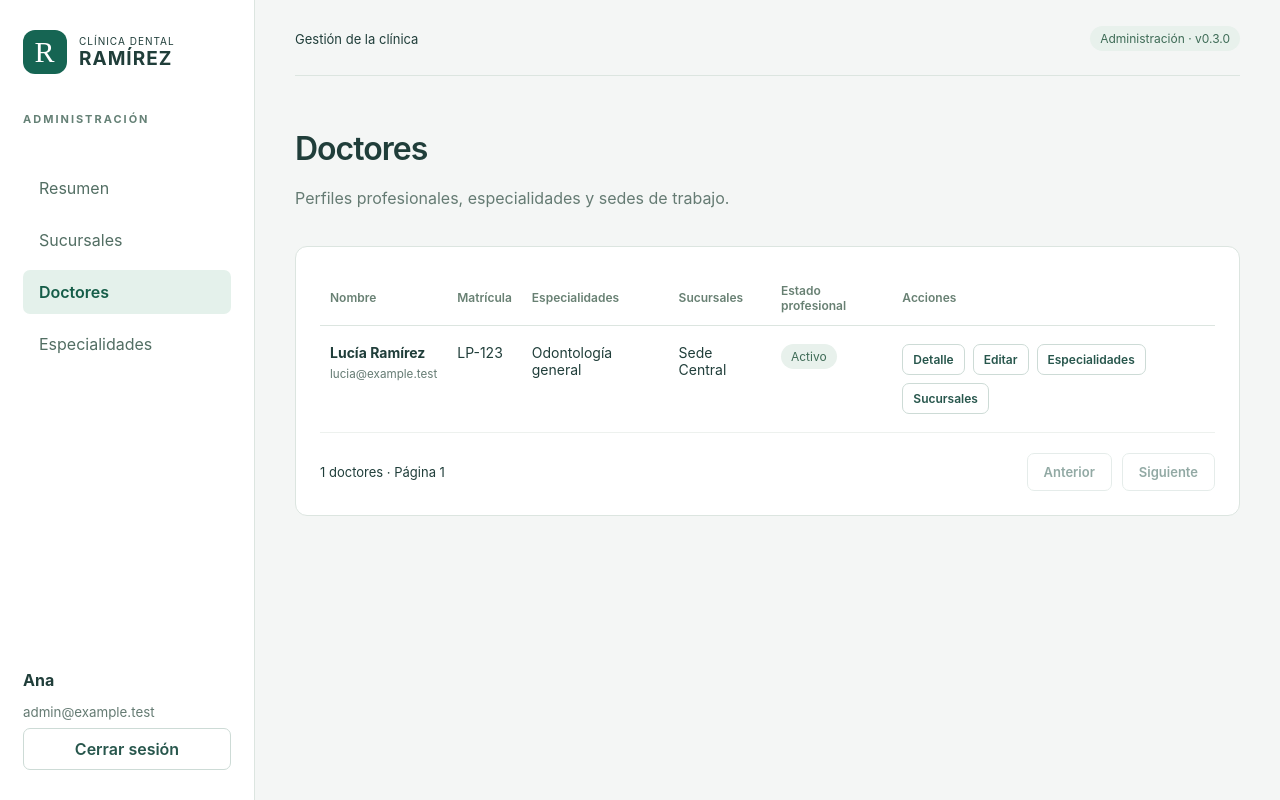
asigna múltiples especialidades conservando la selección existente
Click the button "Especialidades" at [1091, 360], box [1036, 344, 1146, 375]
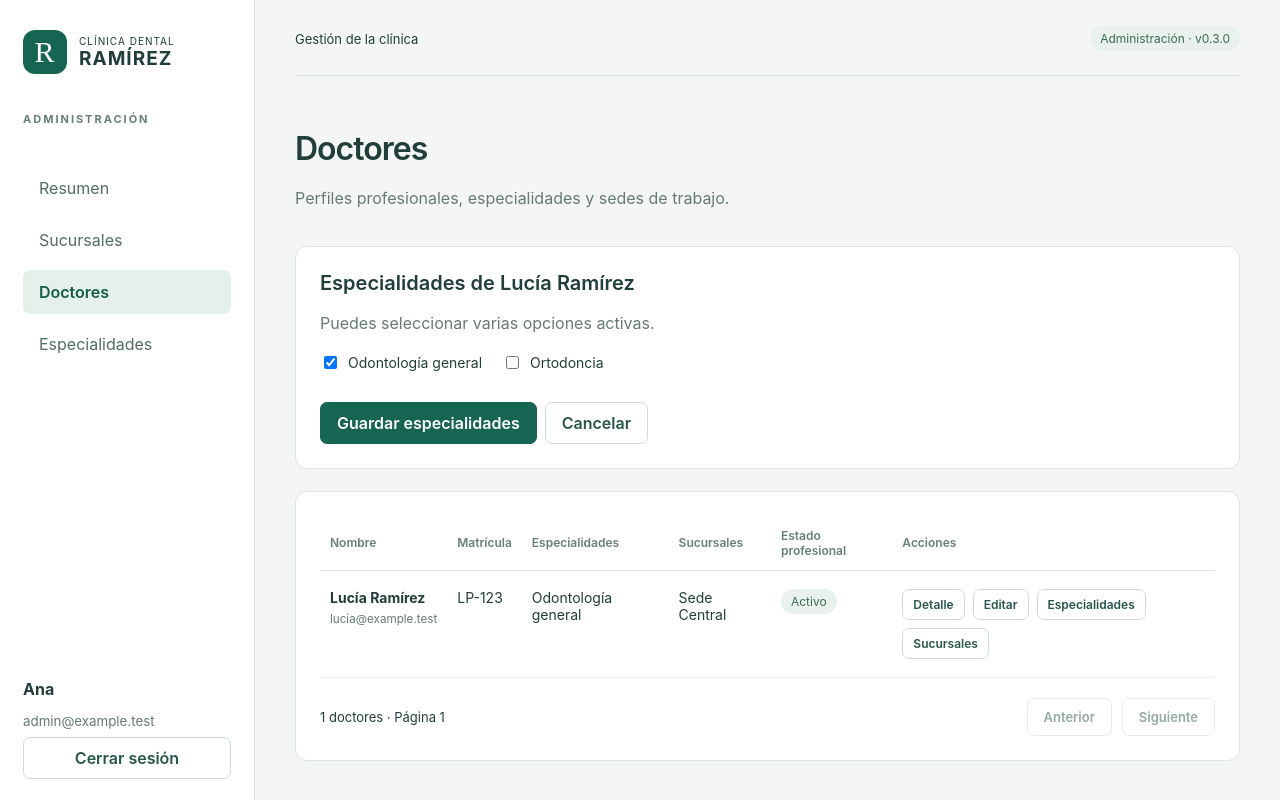
Expected: the checkbox labelled "Odontología general" is checked, [324, 356, 337, 369]
Click the checkbox labelled "Ortodoncia" at [512, 362], box [506, 356, 519, 369]
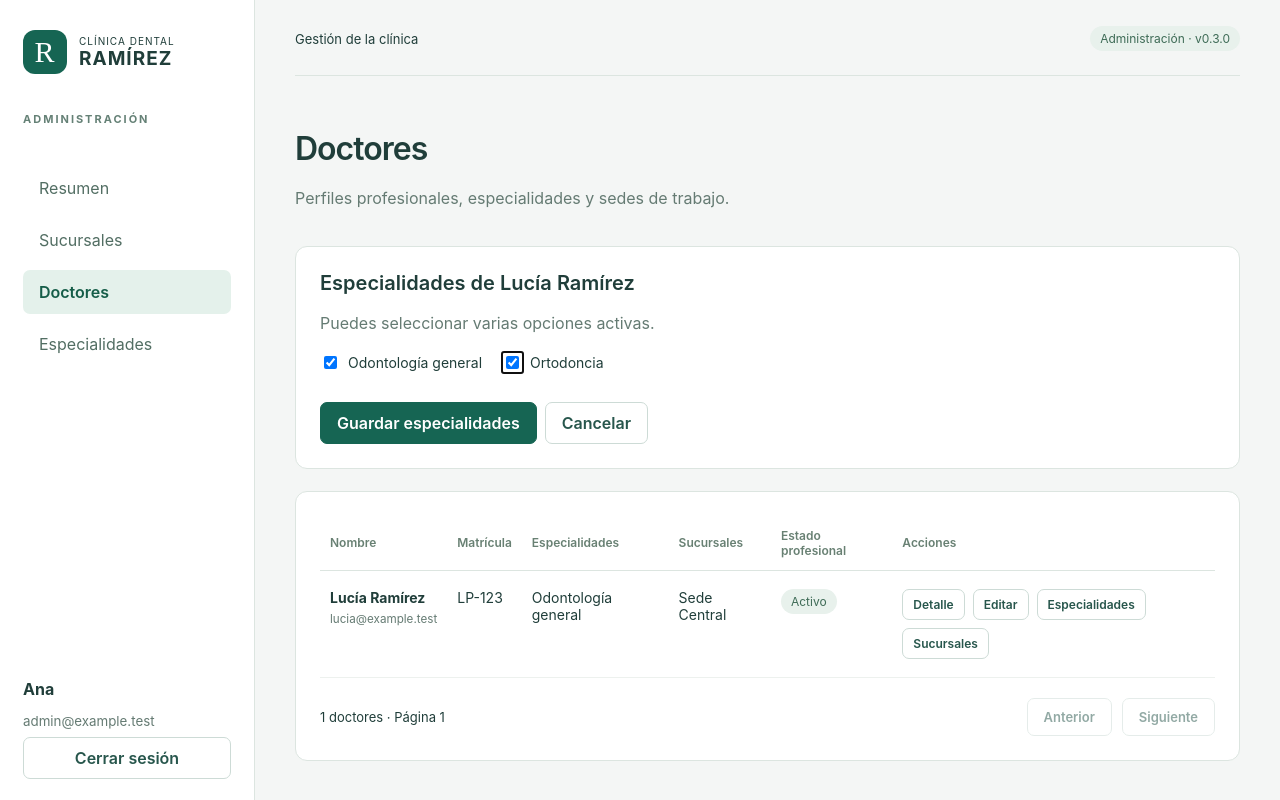
Click the checkbox labelled "Ortodoncia" at [512, 362], box [506, 356, 519, 369]
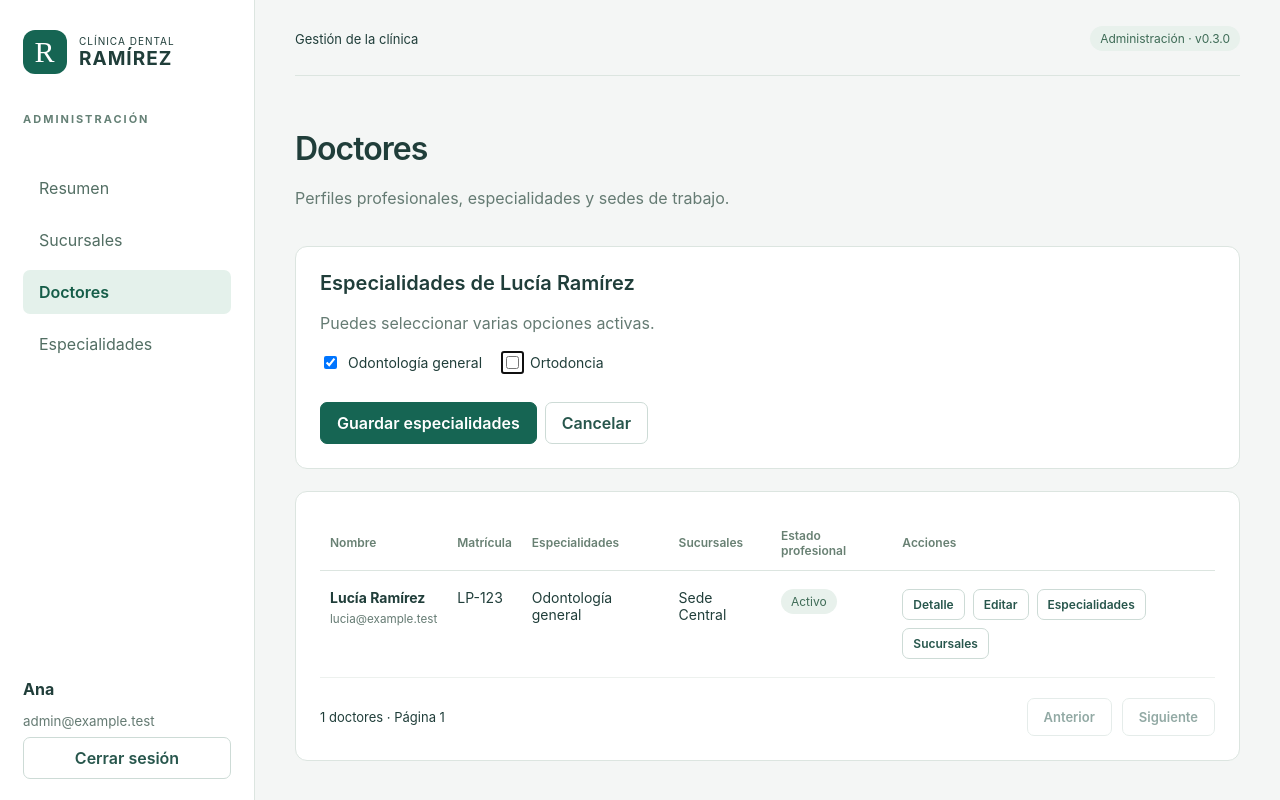
Click the checkbox labelled "Ortodoncia" at [512, 362], box [506, 356, 519, 369]
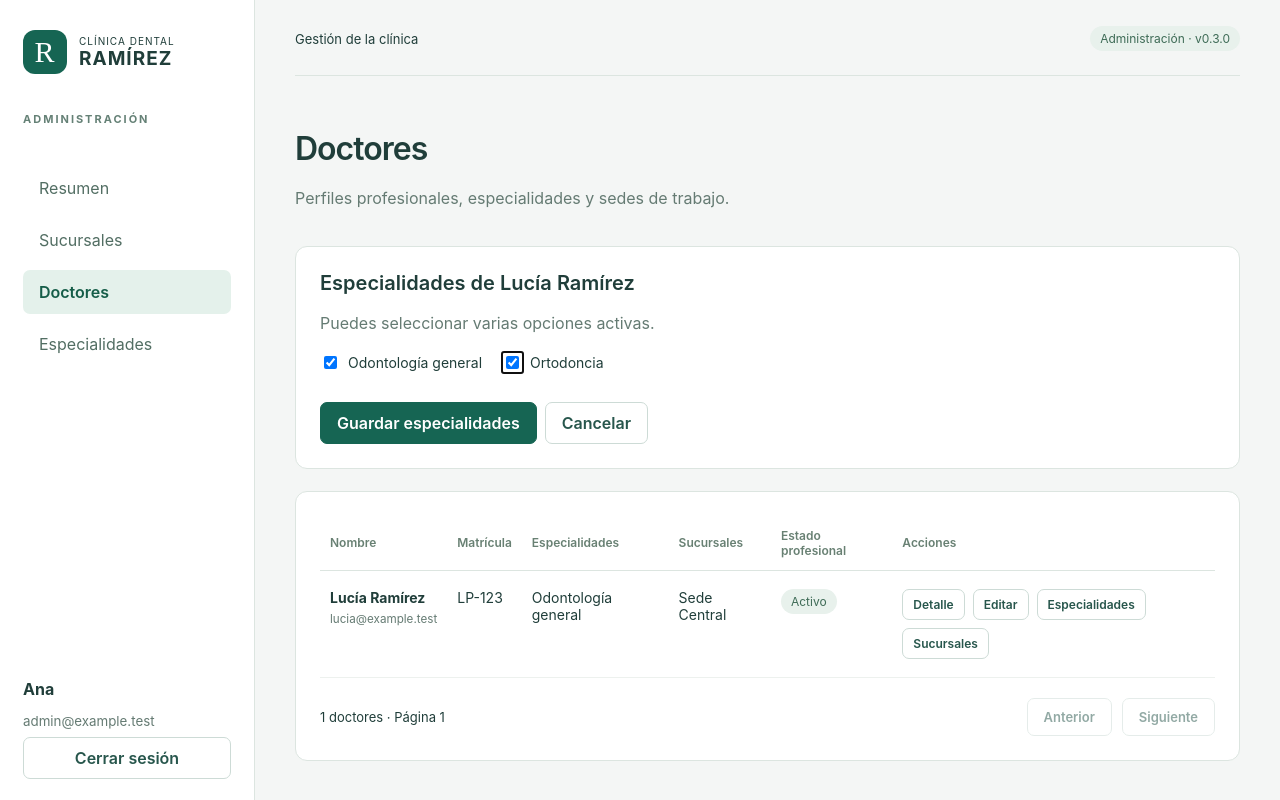
Click the button "Guardar especialidades" at [428, 423], box [320, 402, 537, 444]
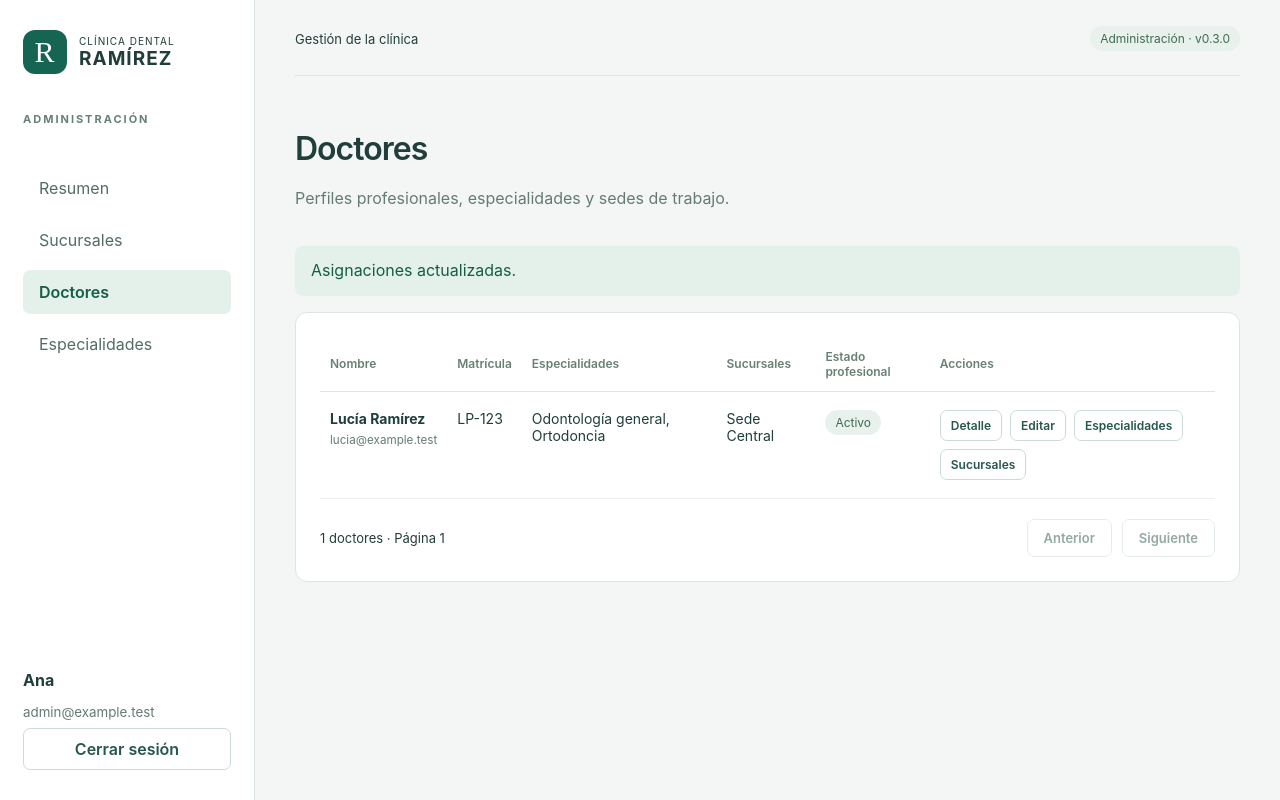
Expected: the text "Asignaciones actualizadas." is shown, [295, 246, 1240, 296]
Expected: the text "Odontología general, Ortodoncia" is shown, [522, 391, 716, 498]
